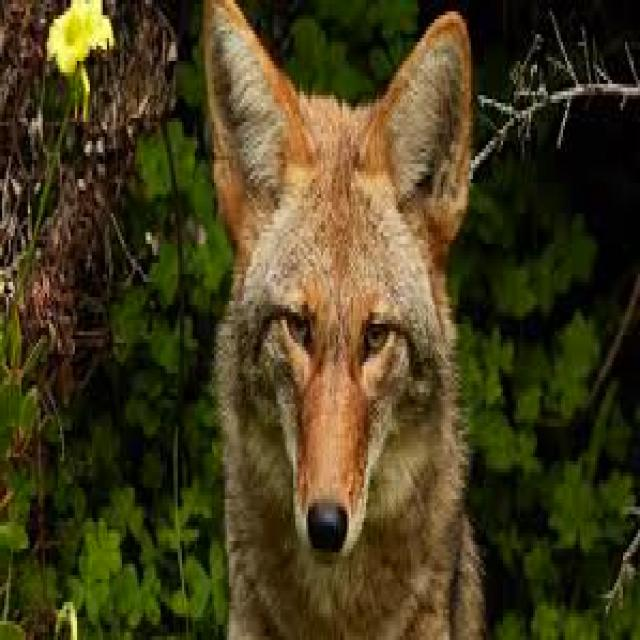coyote: (205, 0, 482, 636)
